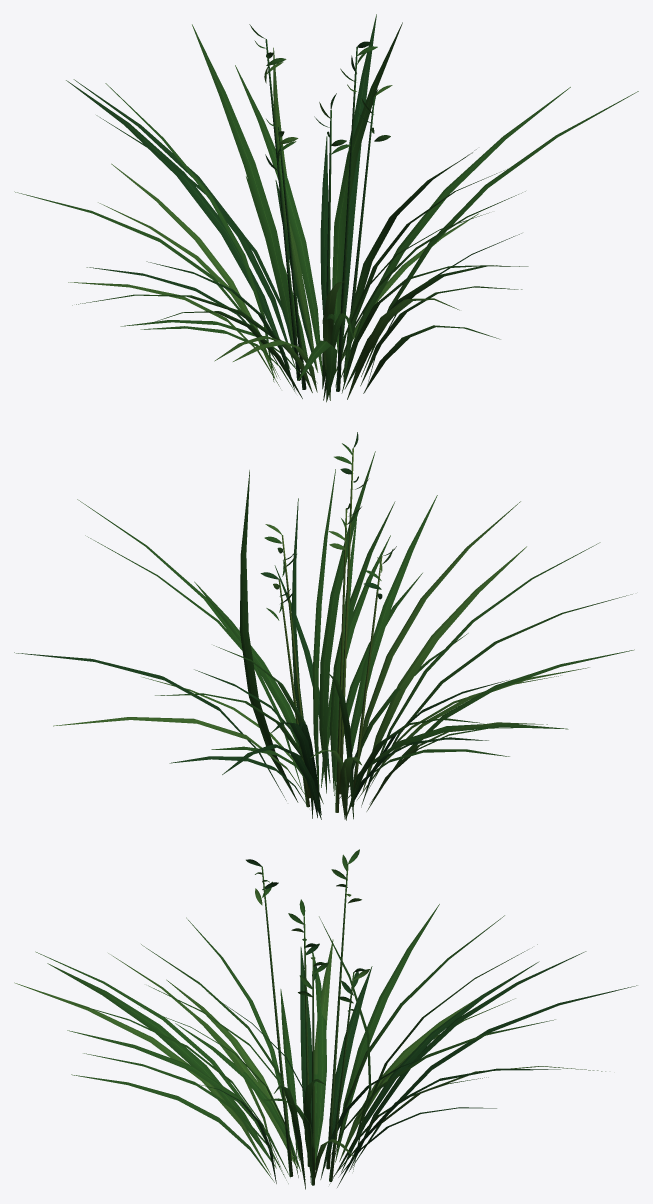
File: Ornamental_grass_1.glb
3 views of the same model, one above another, from view 1: azimuth 30°, elevation 25°; view 2: azimuth 150°, elevation 25°; view 3: azimuth 270°, elevation 25° (orthographic). The views are drawn at different scales.
Parts seen in each view (by area): view 1: Ornamental_grass_1_Leaves.004, Ornamental_grass_1_Stems.003; view 2: Ornamental_grass_1_Leaves.004, Ornamental_grass_1_Stems.003; view 3: Ornamental_grass_1_Leaves.004, Ornamental_grass_1_Stems.003.
Part boxes in pixels (left/top/right/bottom): Ornamental_grass_1_Leaves.004: left=14, top=14, right=638, bottom=402; Ornamental_grass_1_Stems.003: left=265, top=39, right=374, bottom=391; Ornamental_grass_1_Leaves.004: left=14, top=432, right=634, bottom=820; Ornamental_grass_1_Stems.003: left=278, top=448, right=382, bottom=812; Ornamental_grass_1_Leaves.004: left=14, top=849, right=637, bottom=1189; Ornamental_grass_1_Stems.003: left=261, top=864, right=354, bottom=1185.
Bounding box in the file's own units: 2.26 × 1.45 × 2.56.
Materials: 1 (1 with a texture image).
